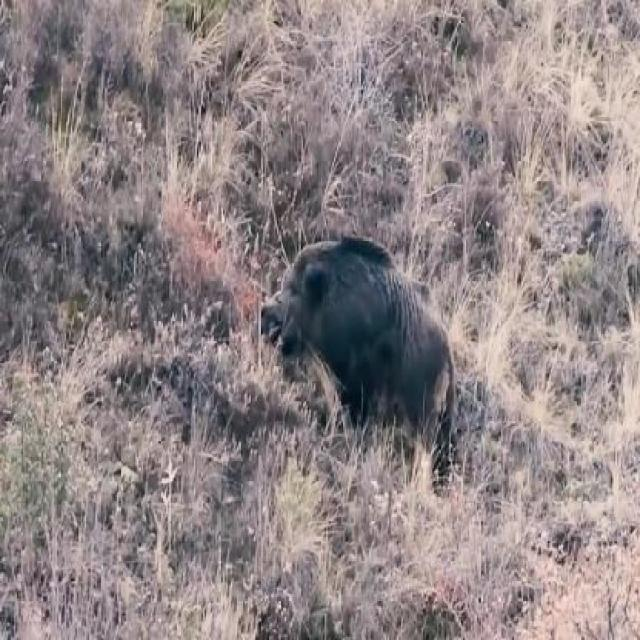pig: (251, 215, 479, 486)
